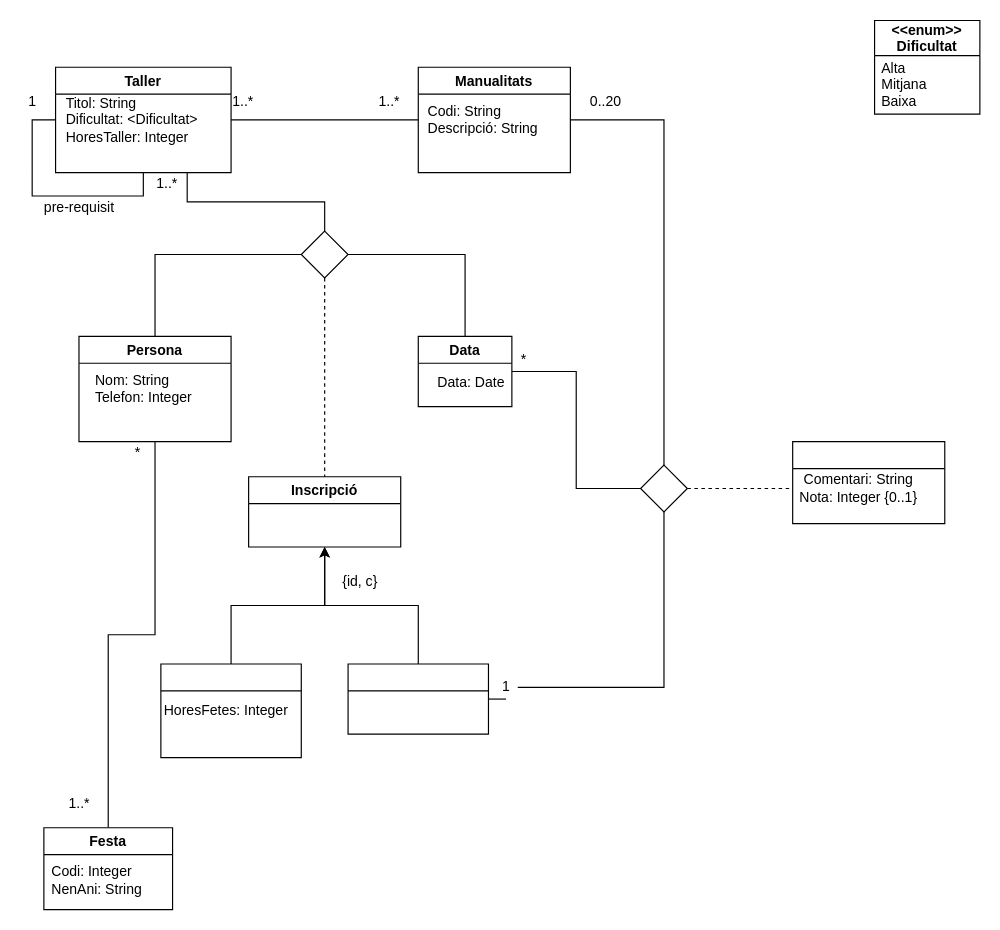
Some shapes in this 1000 by 930 pixel diagram are drawn without their labels. The shapes that lost their labels are listed below. From the top down, each one's box as (x1, y1, x2, y2) in pixels, then its label:
(792, 441, 945, 524): Manualitats Fetes
(160, 663, 301, 758): Parcial
(347, 663, 488, 734): Total
